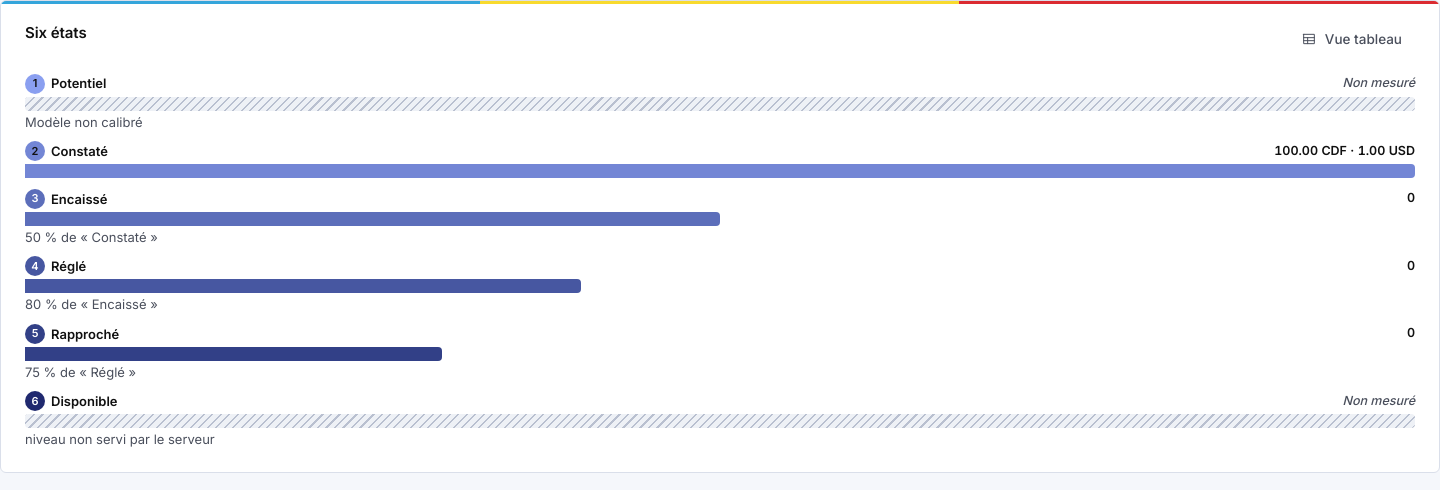
LadderFunnel › six états depuis l’échelle unifiée ; non mesurés hachurés et motivés ; part du précédent ; devises séparées
This screenshot has width=1440, height=490.
Expected: the picture named "Potentiel : Non mesuré — Modèle non calibré" is shown, [25,97,1415,111]
Expected: the picture named "Encaissé : 0, 50 % de « Constaté »" is shown, [25,212,720,226]
Click the button "Vue tableau".
click(1351, 39)  # box [1288,21,1415,57]
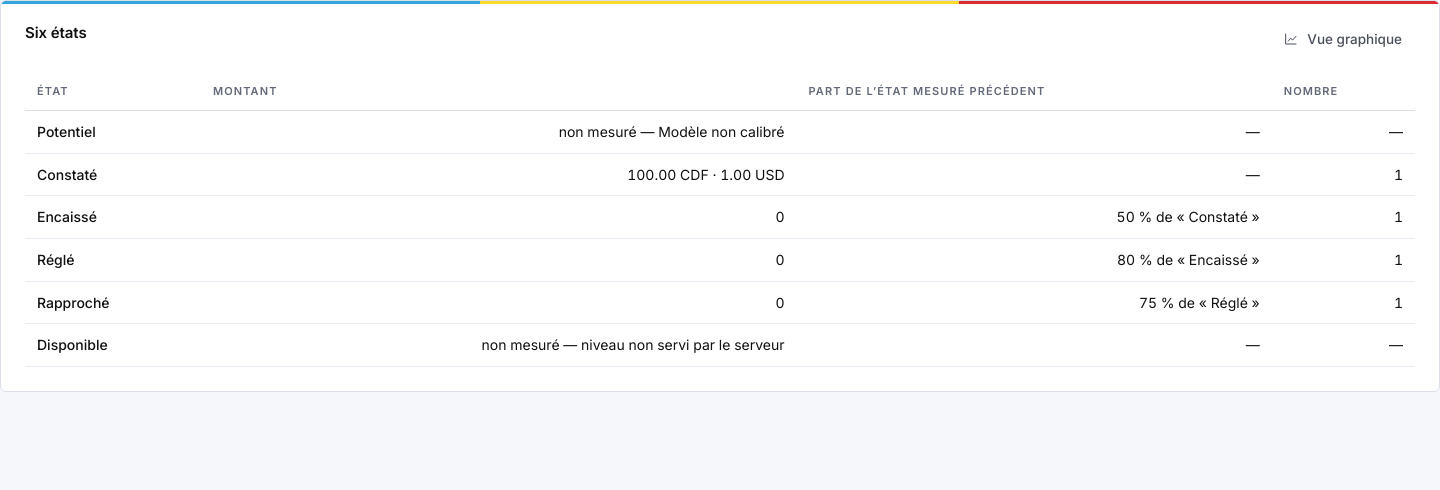
Expected: the row "Réglé 0 80 % de « Encaissé » 1" is shown, [25,239,1415,281]
